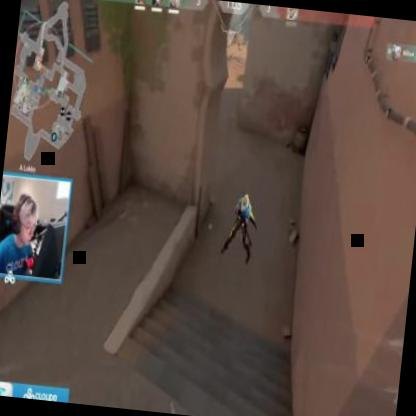enemy: (219, 190, 259, 268)
enemy_head: (242, 194, 248, 206)
